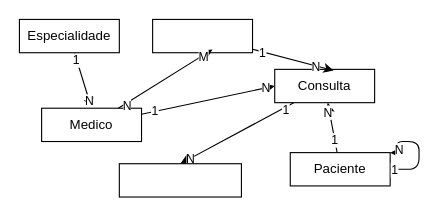
The diagram is 447 pixels wide and 216 high, and some of its shapes have lost their labels. Each missing label, with the centre of its shape:
Convenio: the point at 202,35
Exame_solicitado: the point at 179,180
